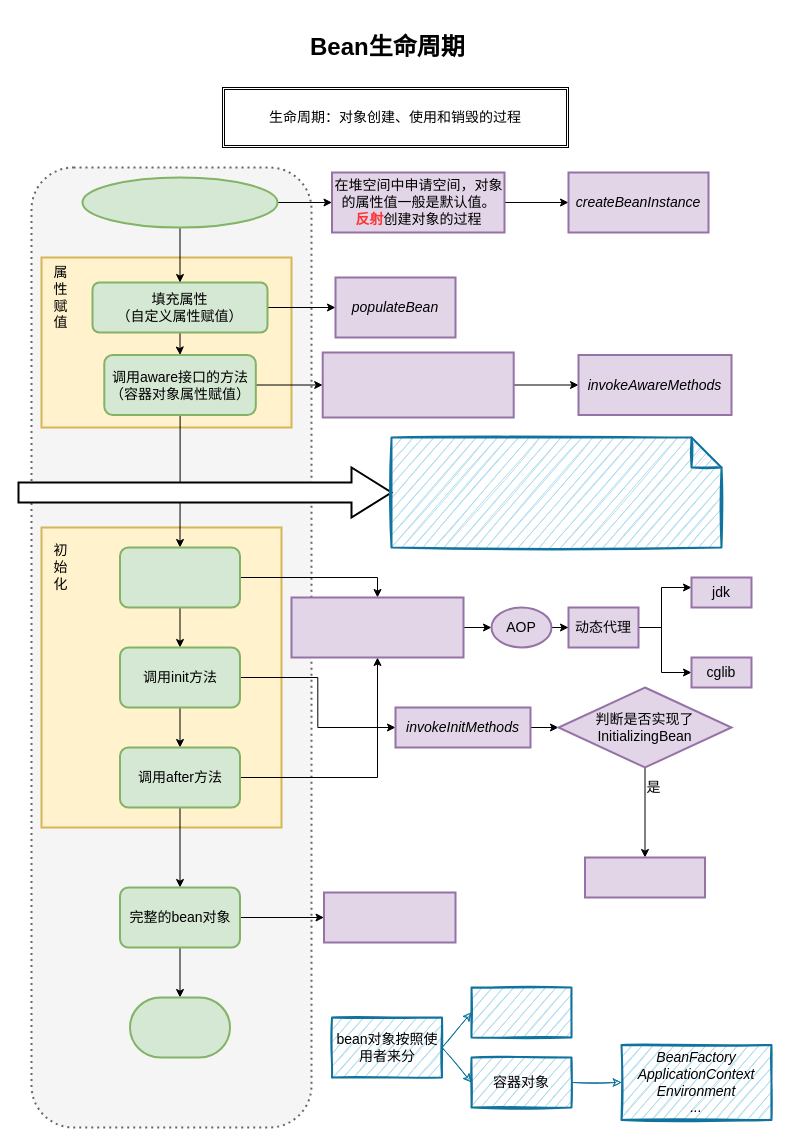
The diagram is 789 pixels wide and 1145 high, and some of its shapes have lost their labels. The box of each missing label's shape, as (x1, y1, x2, y2) in pixels:
afterPropertiesSet: (584, 856, 706, 898)
aware接口是为了方便自定义对象调用容器对象来抽象出的一个接口: (321, 351, 514, 418)
BeanPostProcessor bean对象的扩展点: (290, 596, 464, 658)
bean的实例化: (81, 176, 278, 228)
context.getBean(): (322, 891, 456, 943)
执行到此步骤后，对象的创建和属性的赋值都已经完成，理论上此时对象可以直接拿来使用，但是注意Spring要考虑扩展性。: (390, 436, 722, 548)
自定义对象: (470, 986, 572, 1038)
调用before方法: (118, 546, 240, 608)
销毁过程: (128, 996, 230, 1058)
